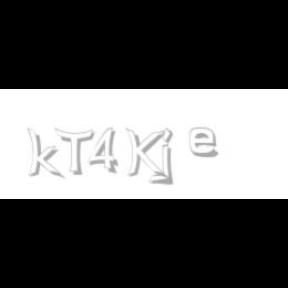4: (88, 128, 119, 174)
K: (125, 128, 165, 180)
T: (54, 128, 94, 176)
e: (190, 128, 222, 158)
j: (158, 128, 188, 186)
k: (26, 128, 64, 180)
